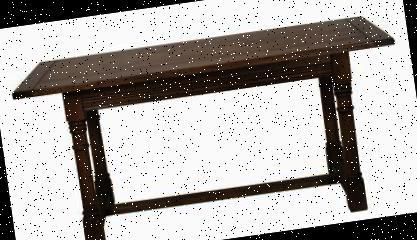Mesa: (4, 7, 416, 239)
